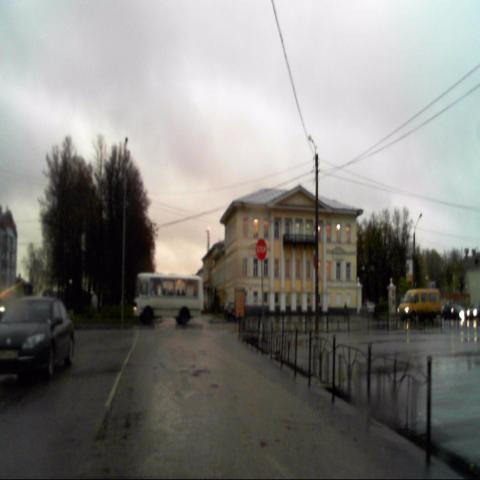2_5: (255, 239, 266, 260)
